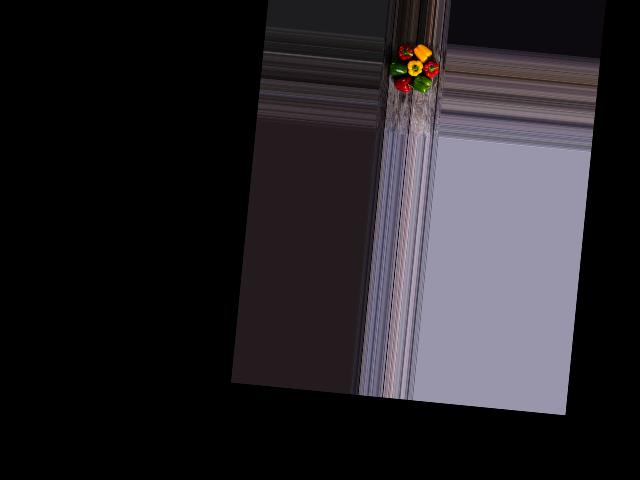bell_pepper: (397, 40, 417, 61)
